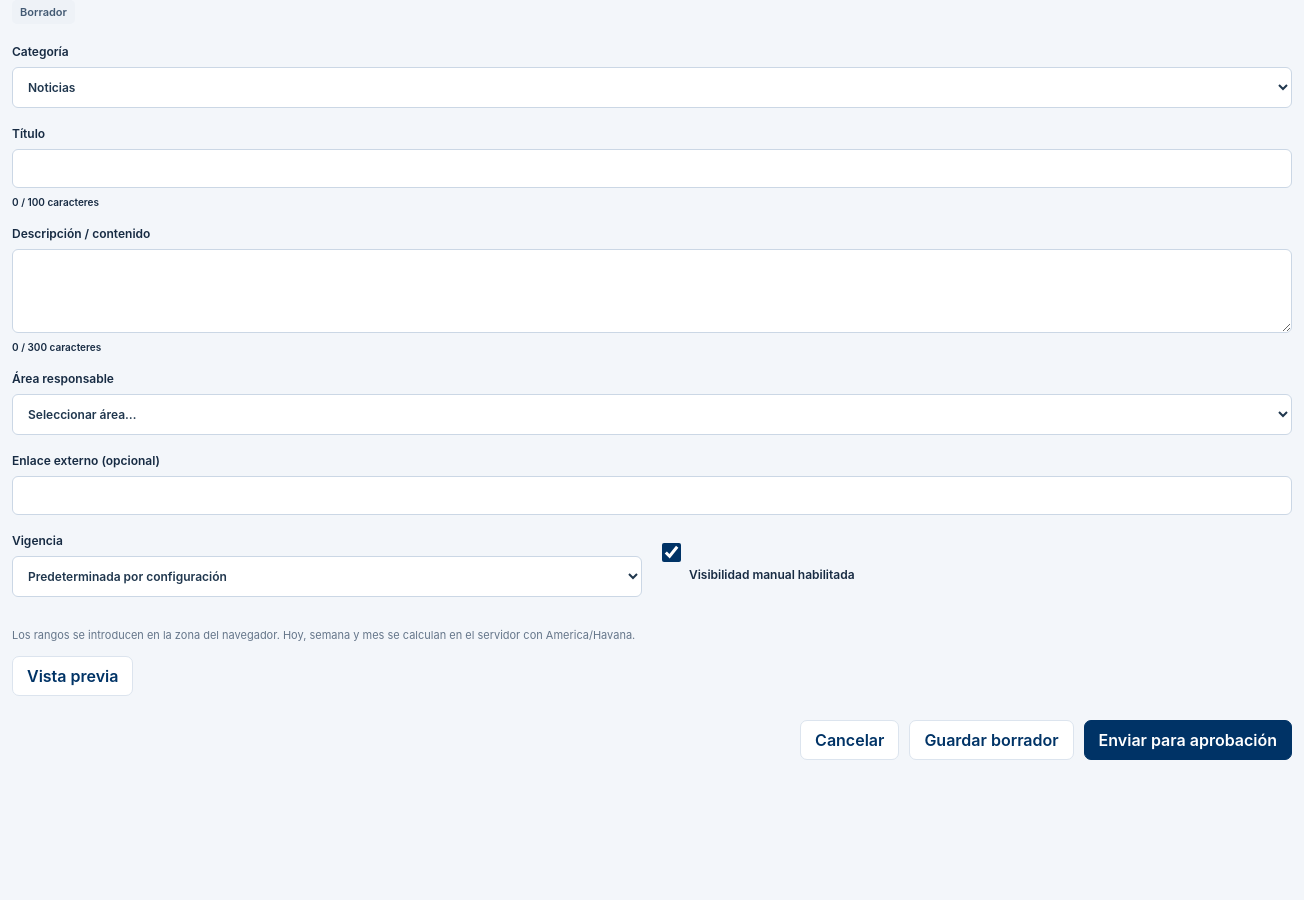
Test case: conserva el formulario cuando el servidor rechaza guardar
Step 1. Type "Noticia de prueba" into the field labelled "Título" → (652, 168), box [12,149,1292,188]
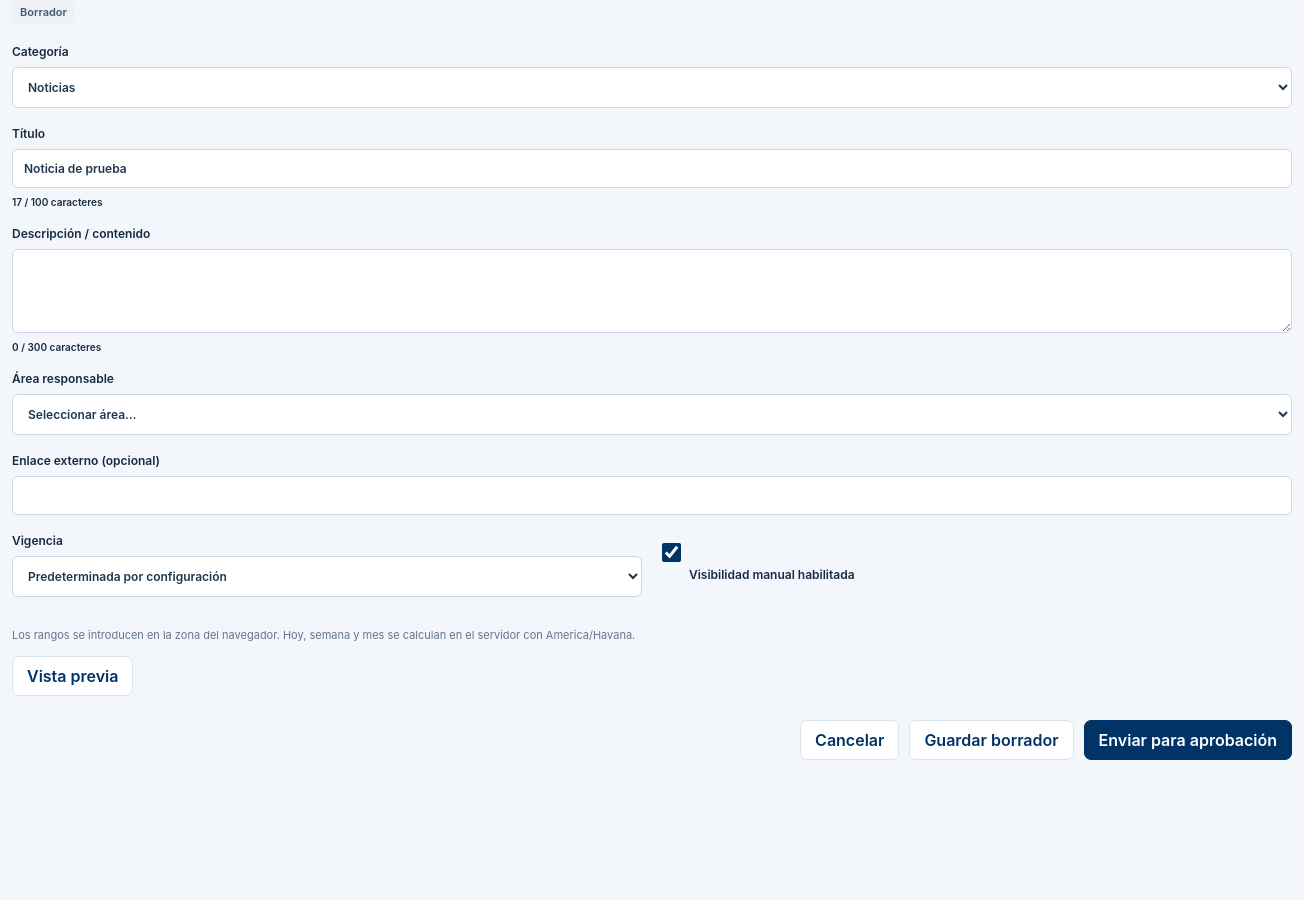
Step 2. Type "Descripción válida" into the text box labelled "Descripción / contenido" → (652, 291), box [12,249,1292,333]
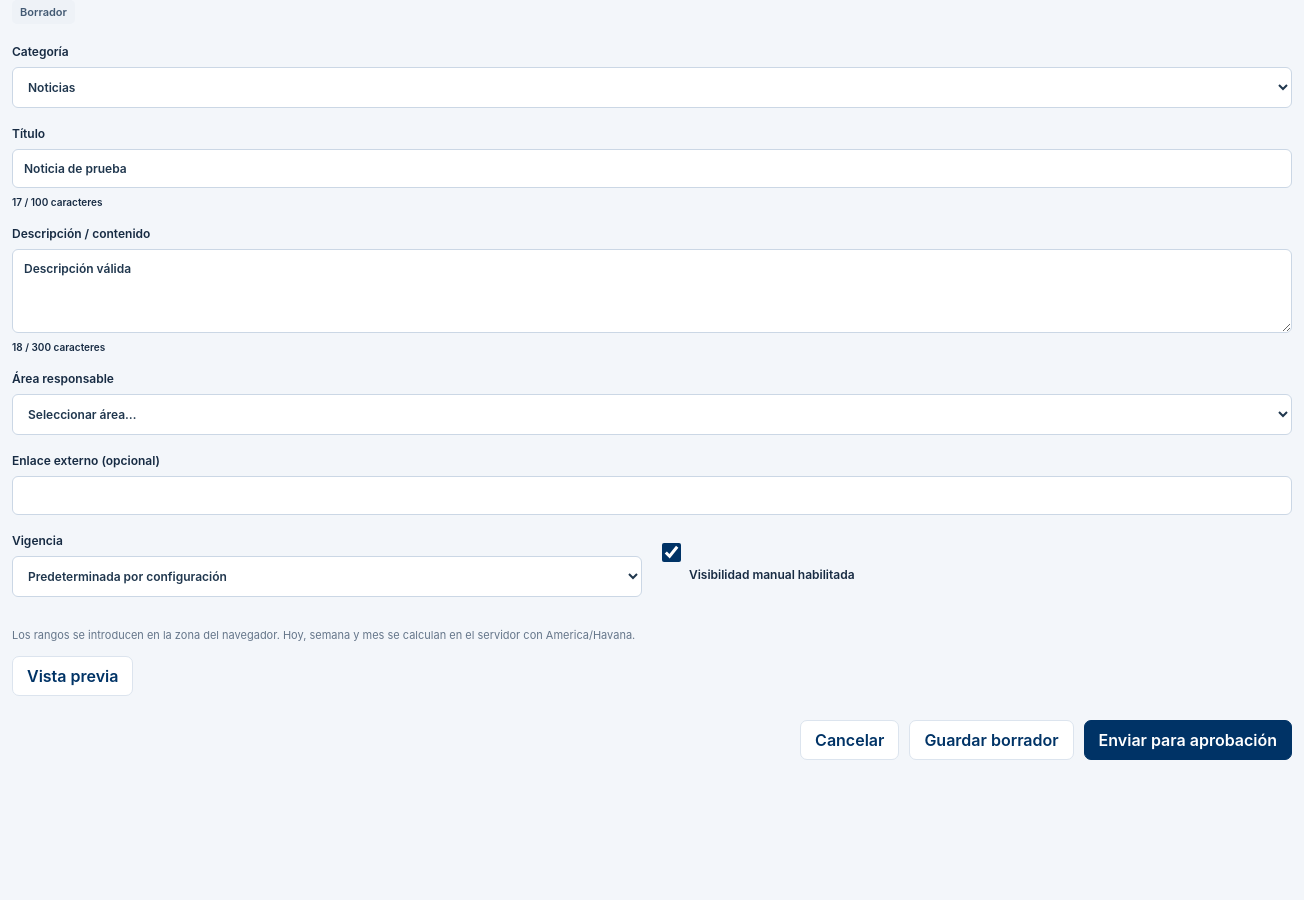
Step 3. Select "Área DEMO" in the dropdown labelled "Área responsable" → (652, 414), box [12,394,1292,435]
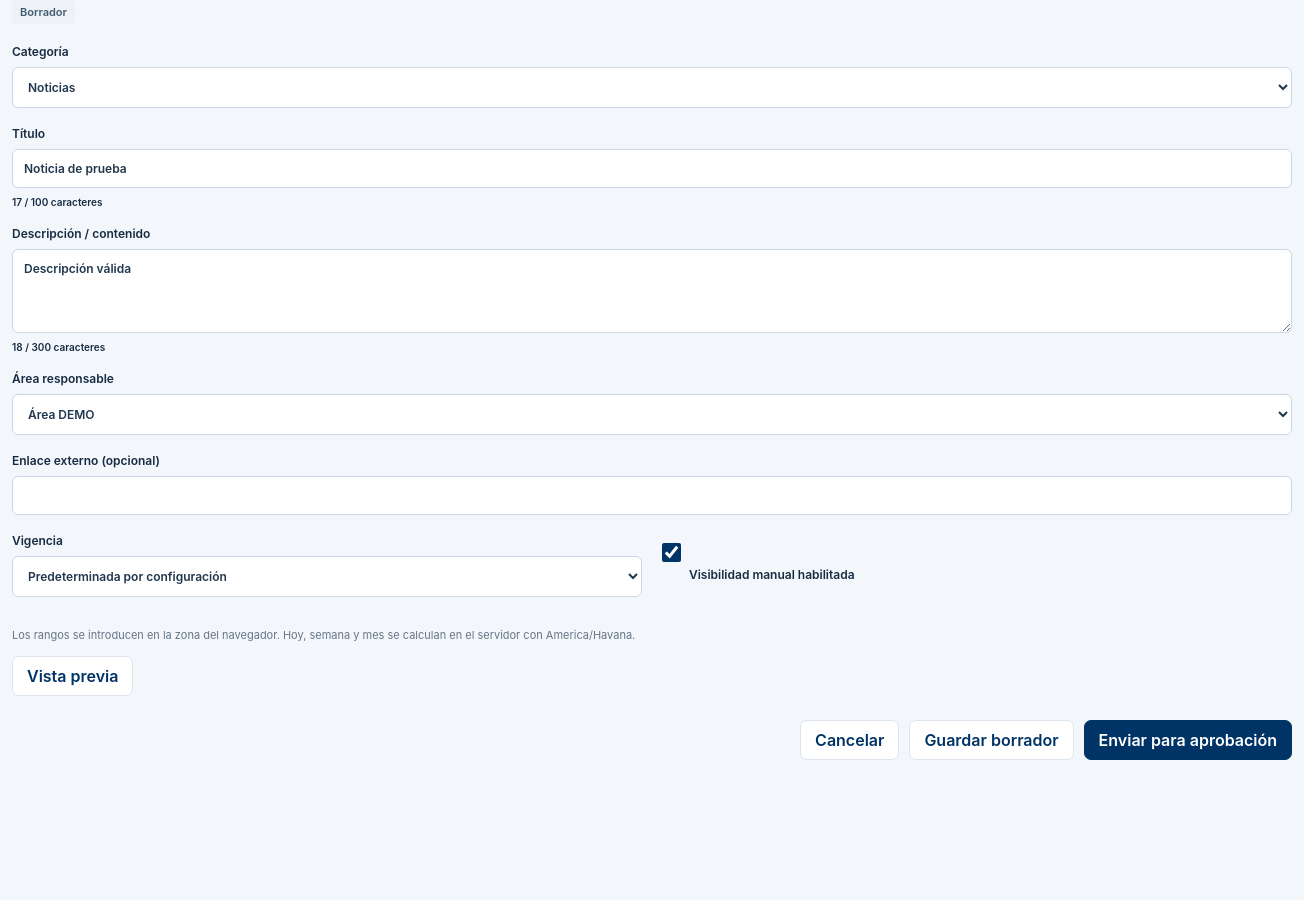
Step 4. Submit the text "Guardar borrador"
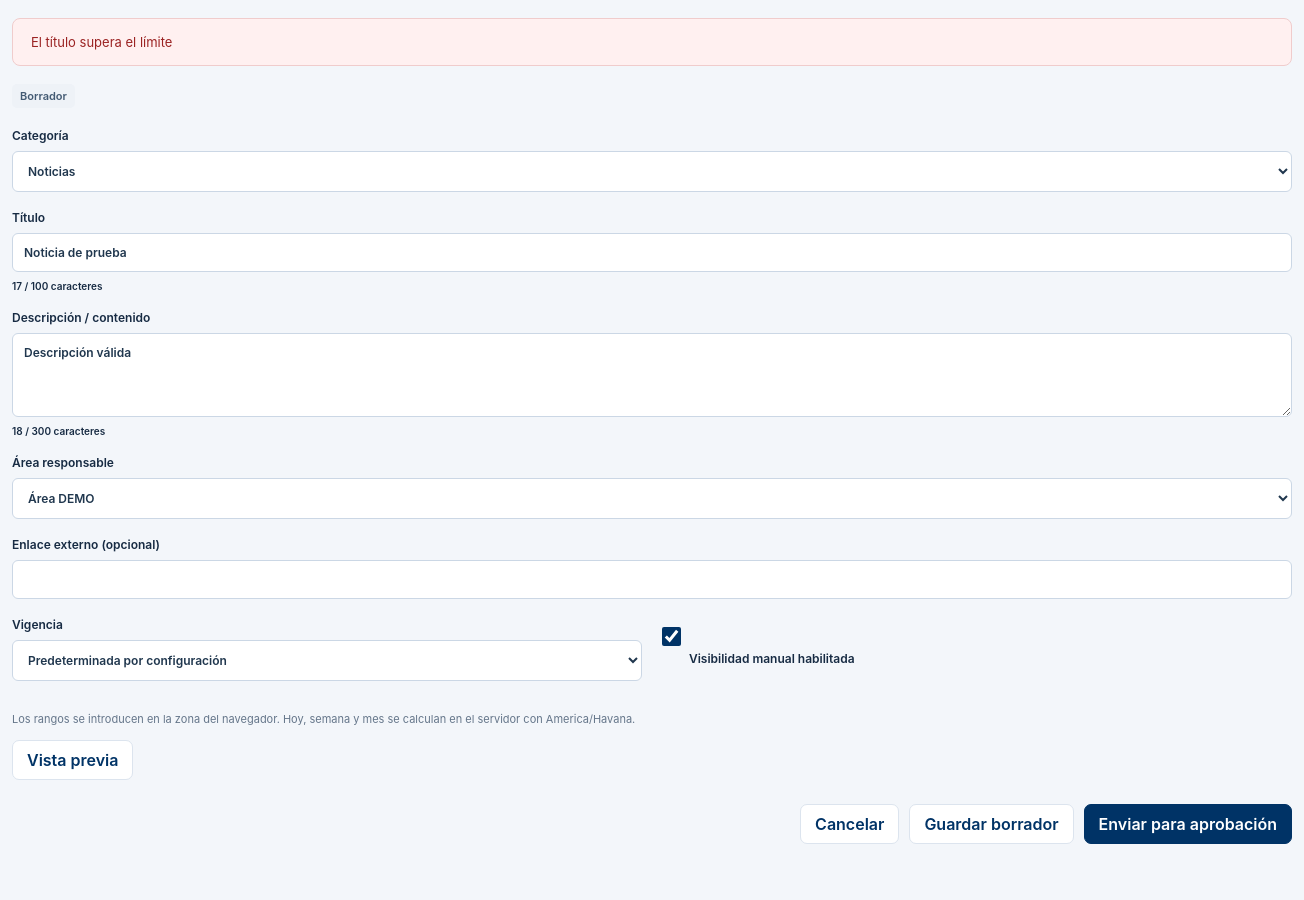
Result: the message reads "El título supera el límite" at [31,34,172,50]
